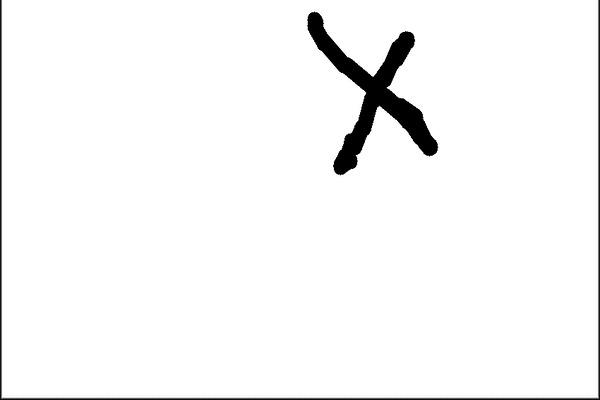X: (291, 5, 453, 180)
